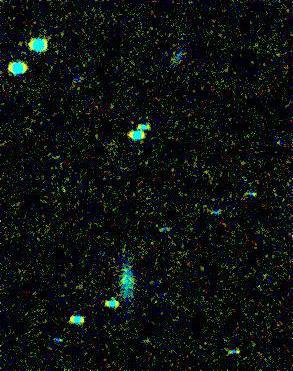star: (109, 255, 139, 285)
